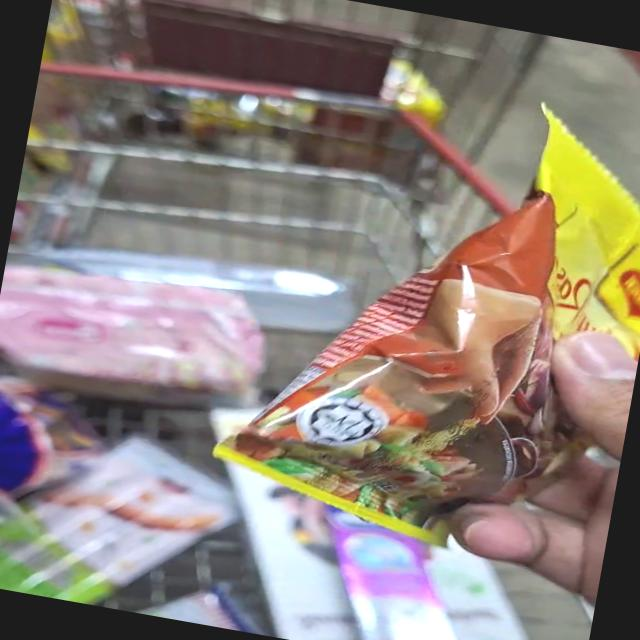Maggi Cukup Rasa: (218, 121, 640, 552)
Ubat Gigi: (305, 523, 464, 640)
